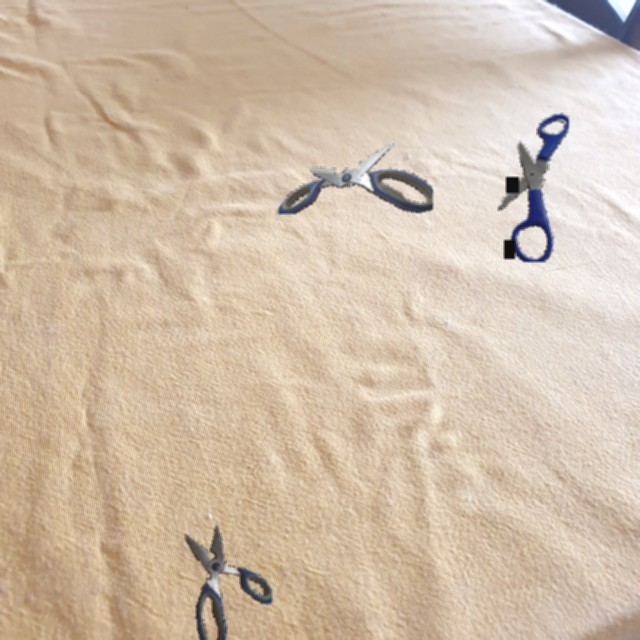scissors: (277, 143, 433, 214), (498, 113, 569, 262), (185, 525, 272, 640)
